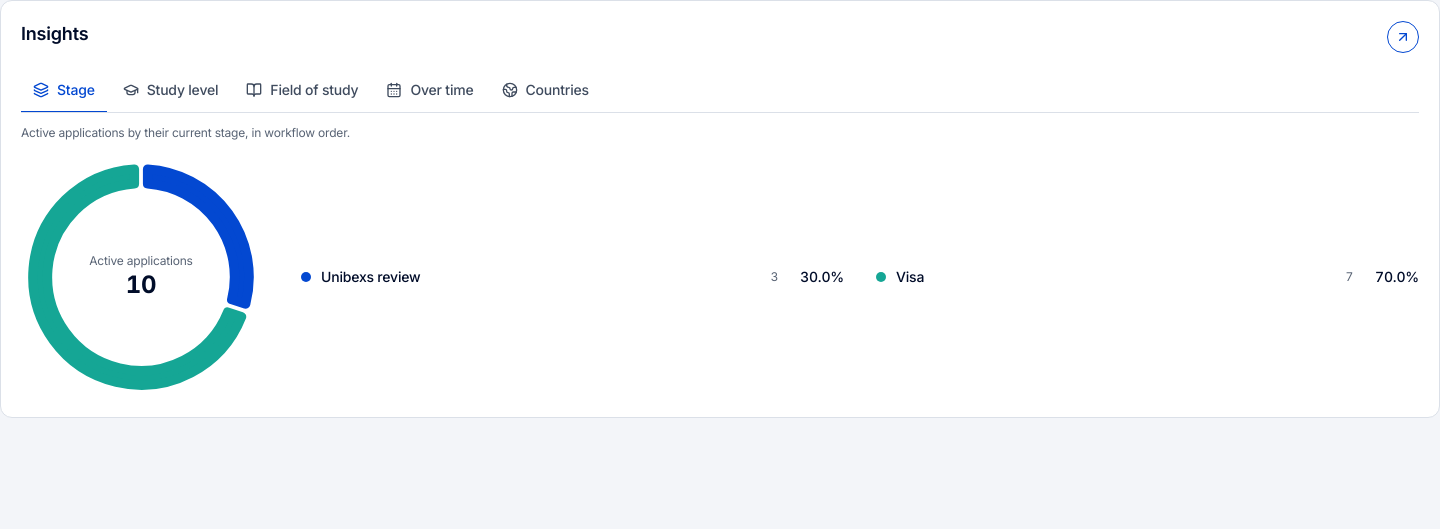
draws the monthly and country views when the list sends the data
Click the tab "Over time" at (430, 91), box [374,69,486,113]
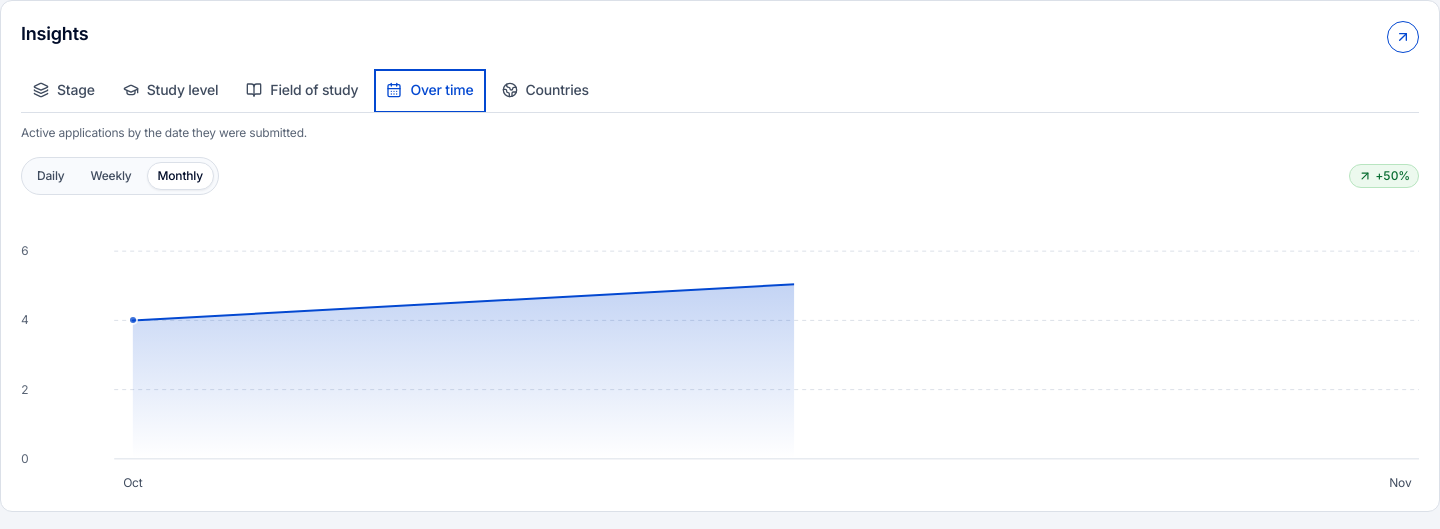
expect the element named "last 12 months" is shown: met, box [21,243,1419,467]
expect the text "+50%" is shown: met, box [1376,168,1410,184]
Click the tab "Weekly" at (111, 176), box [80,162,142,190]
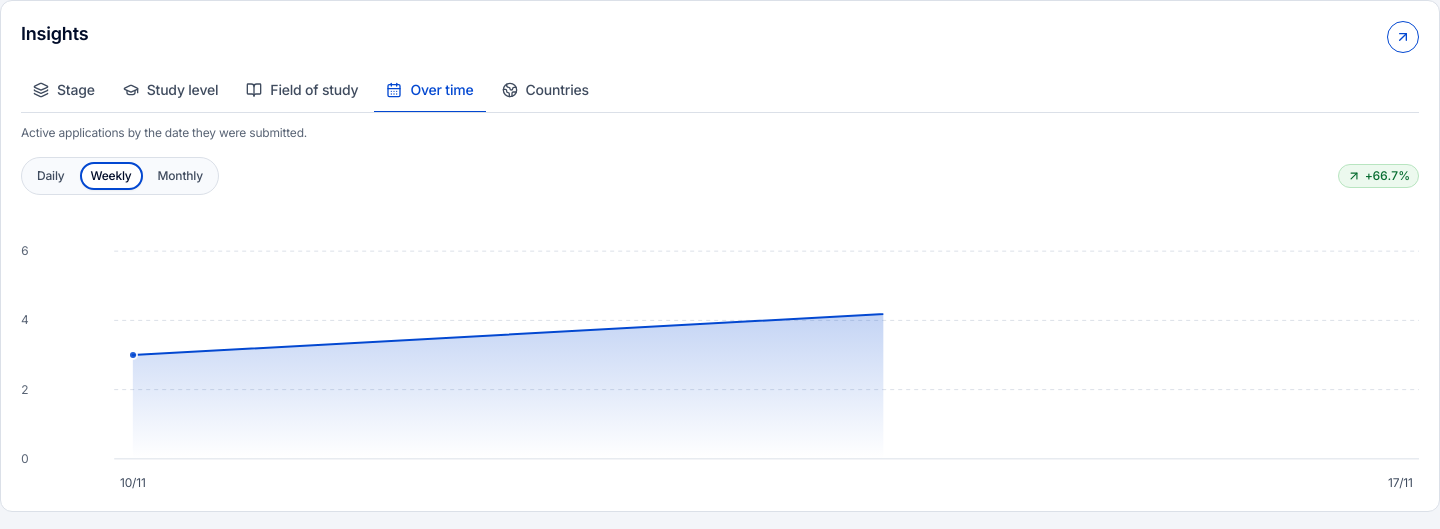
Click the tab "Daily" at (51, 176), box [26,162,76,190]
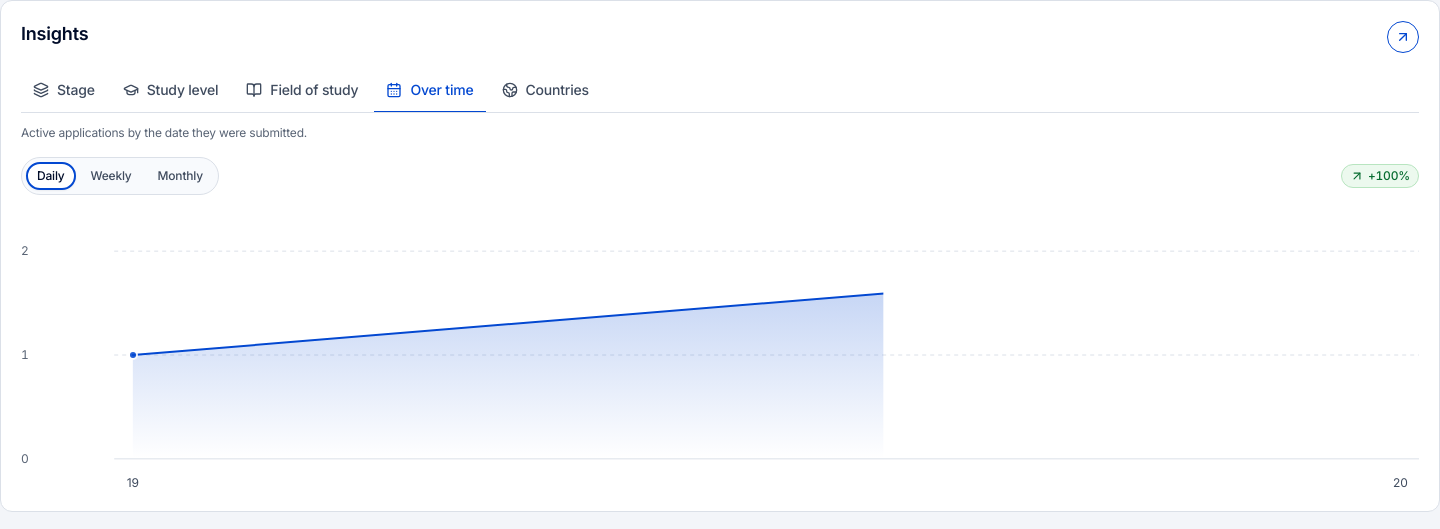
expect the element named "last 14 days" is shown: met, box [21,243,1419,467]
Click the tab "Countries" at (545, 91), box [490,69,601,113]
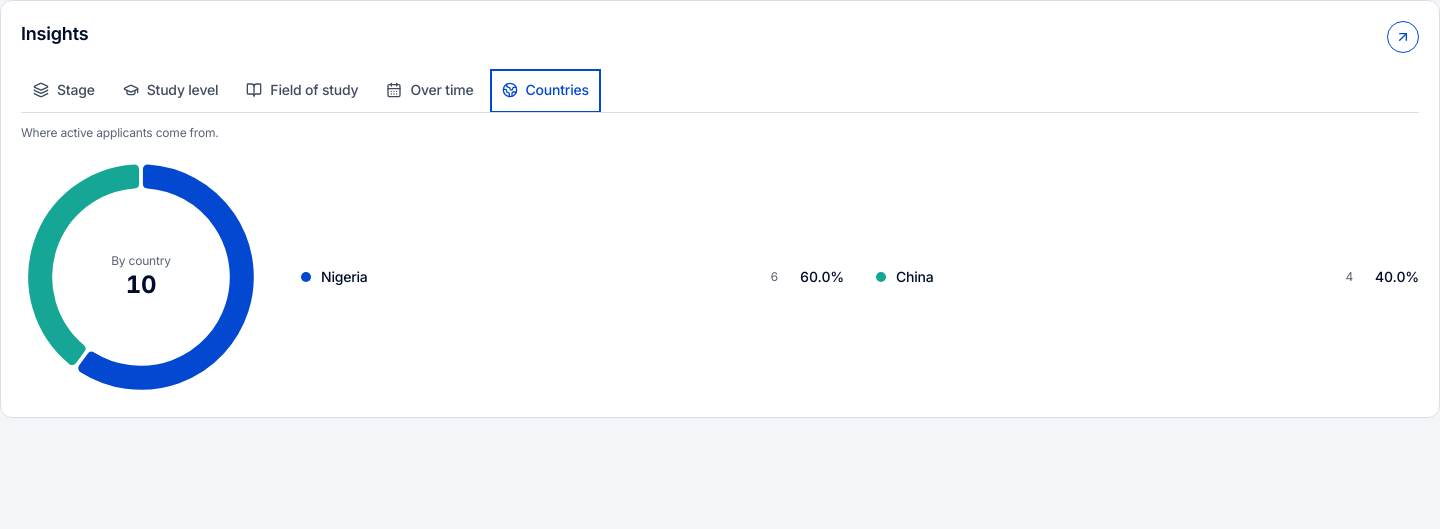
expect the picture named "By country" is shown: met, box [21,157,261,397]
expect the text "Nigeria" is shown: met, box [321,268,368,285]
